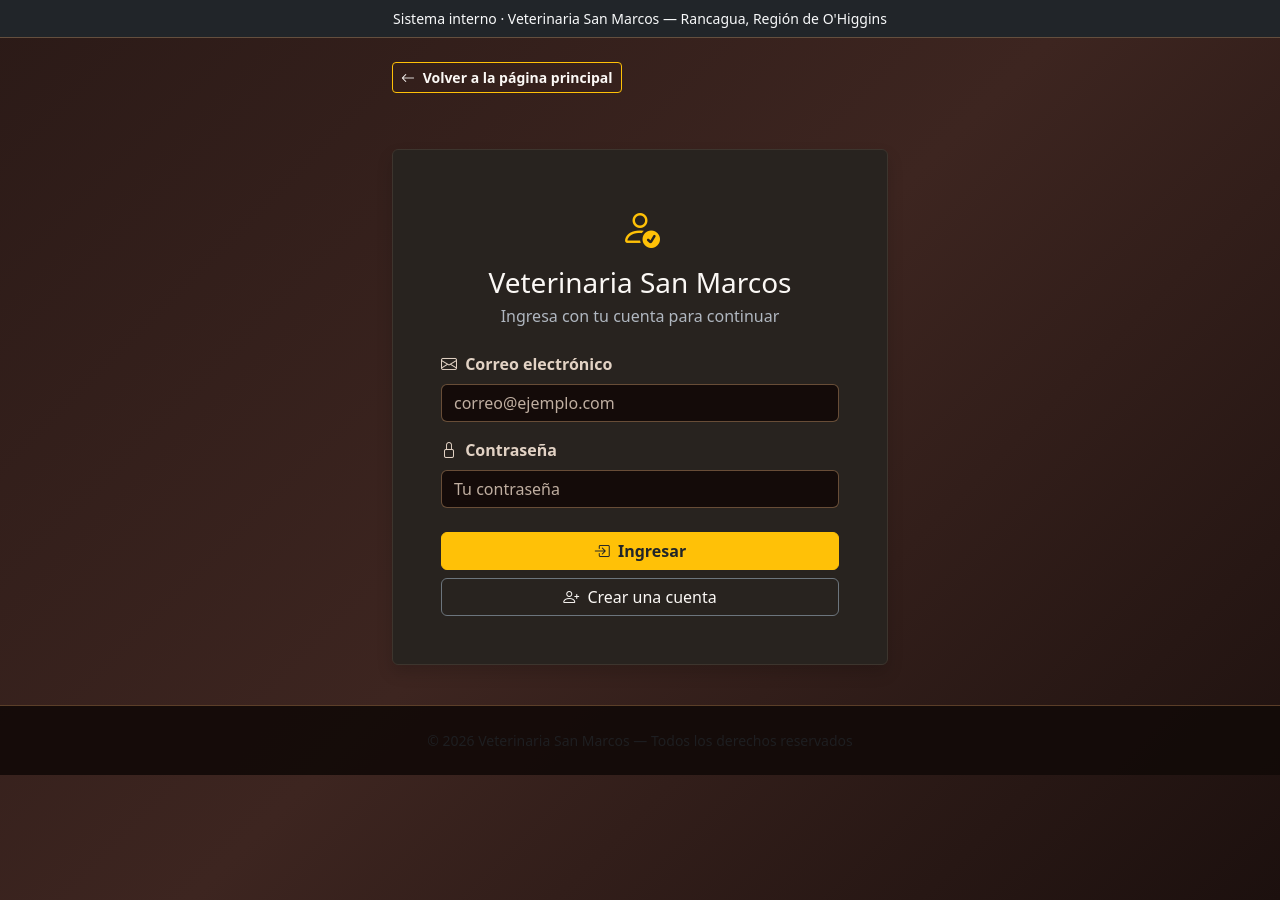
Test: Frontend conectado al backend - Veterinaria San Marcos › 12. Login usa el endpoint real y muestra el error del backend
The width and height of the screenshot is (1280, 900).
Type "a@b.cl" into the field with placeholder "correo@ejemplo.com" at (640, 403), box [441, 384, 839, 422]
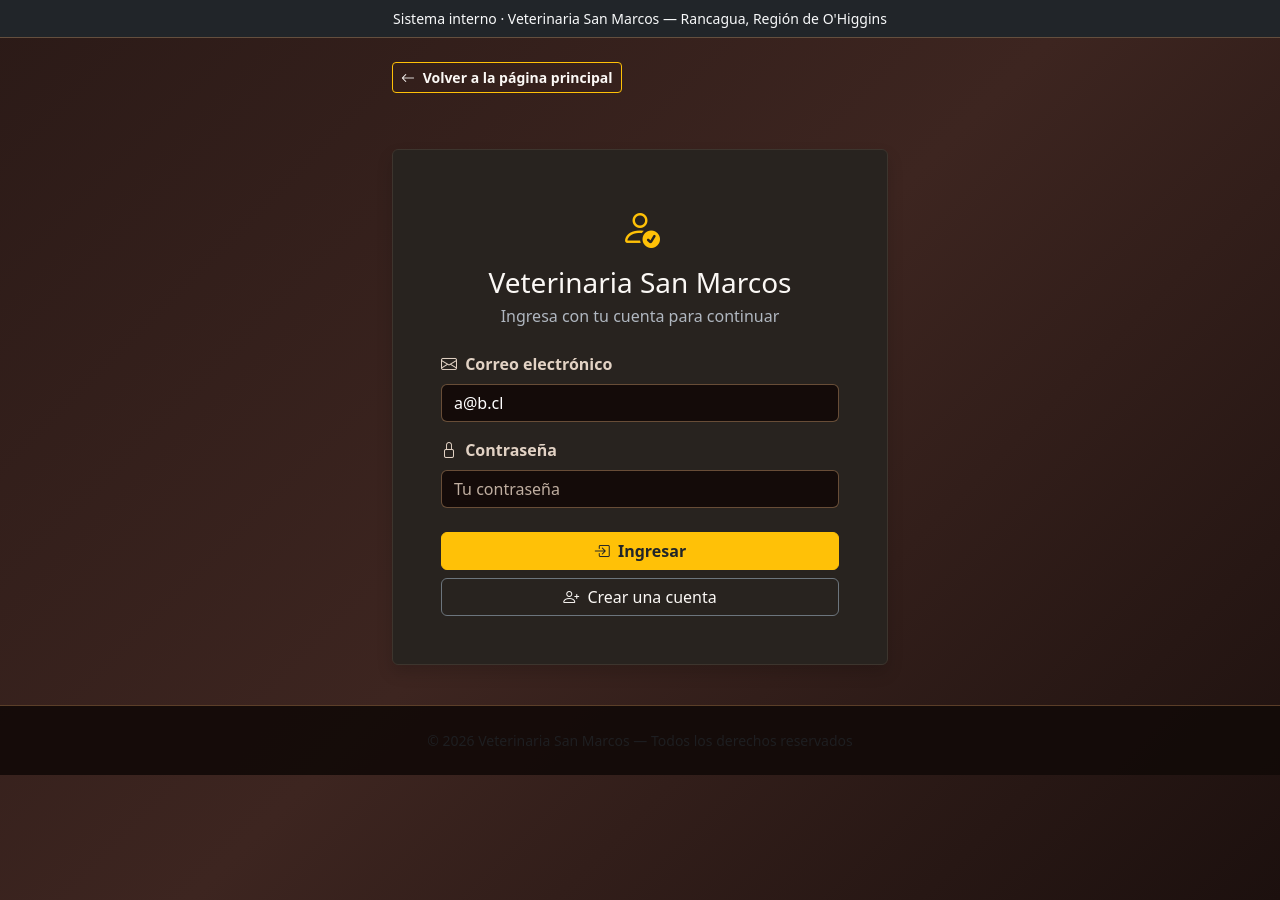
Type "malaclave" into the password field with placeholder "Tu contraseña" at (640, 489), box [441, 470, 839, 508]
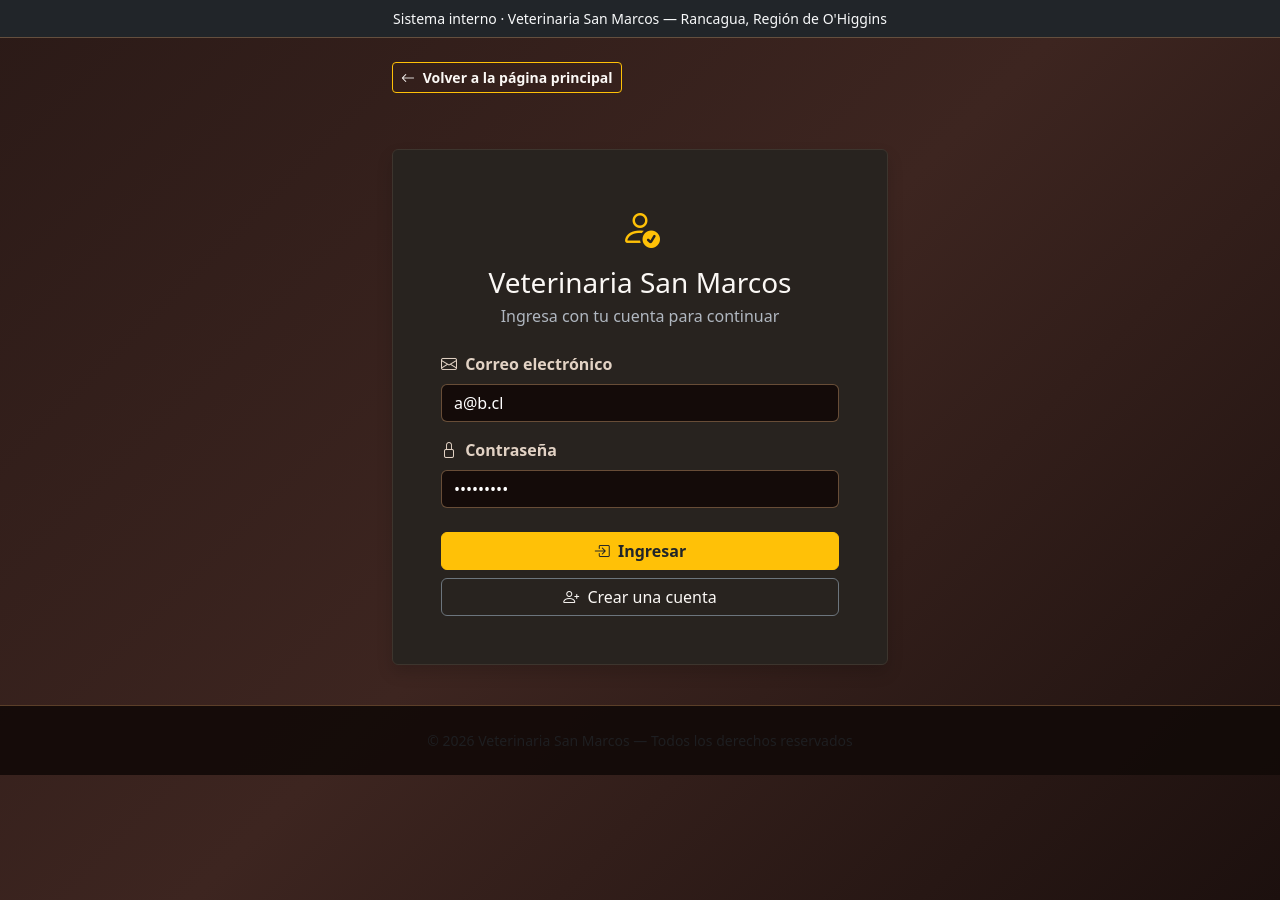
Click the button "Ingresar" at (640, 551), box [441, 532, 839, 570]
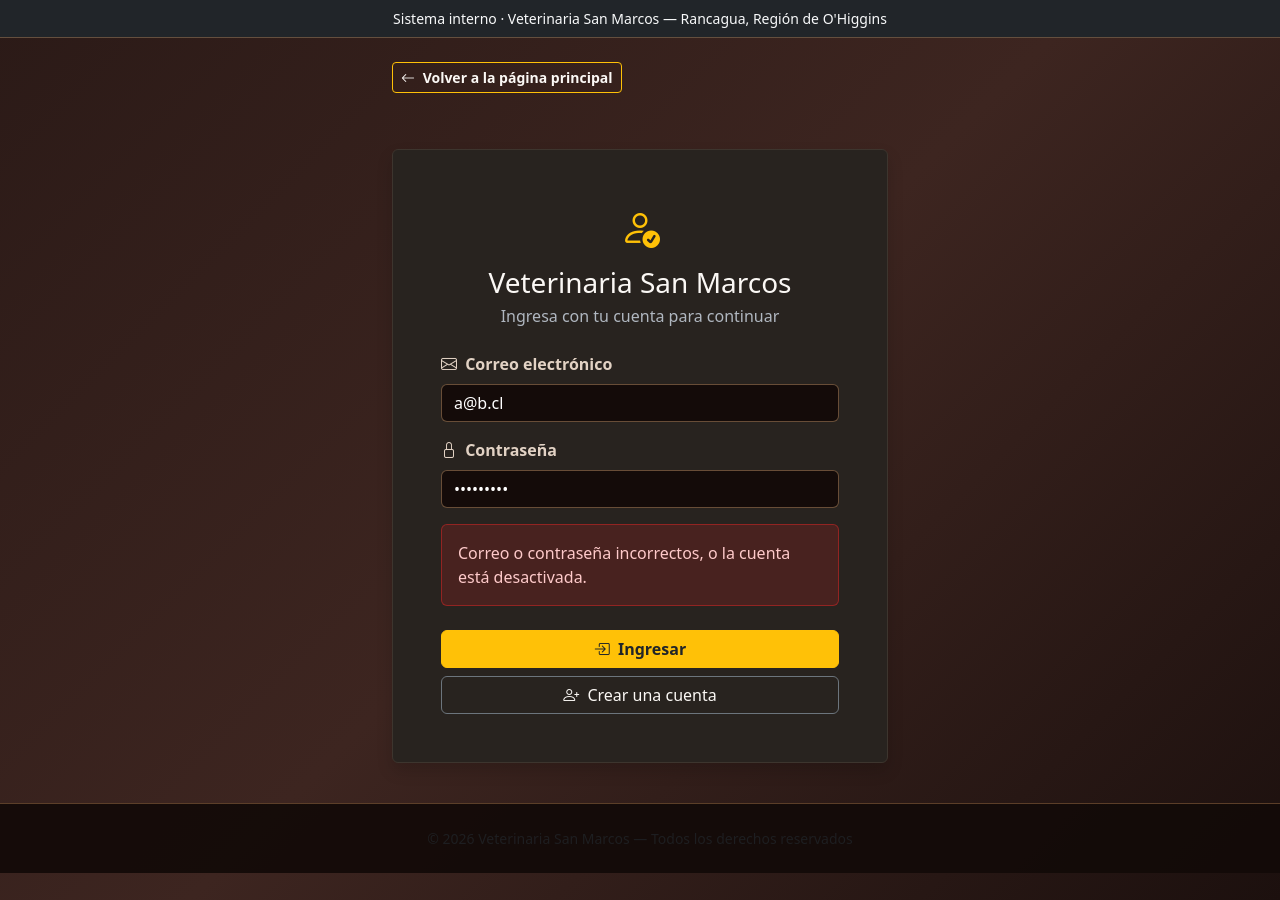
Result: the text "Correo o contraseña incorrectos, o la cuenta está desactivada." is shown at [441, 524, 839, 606]
